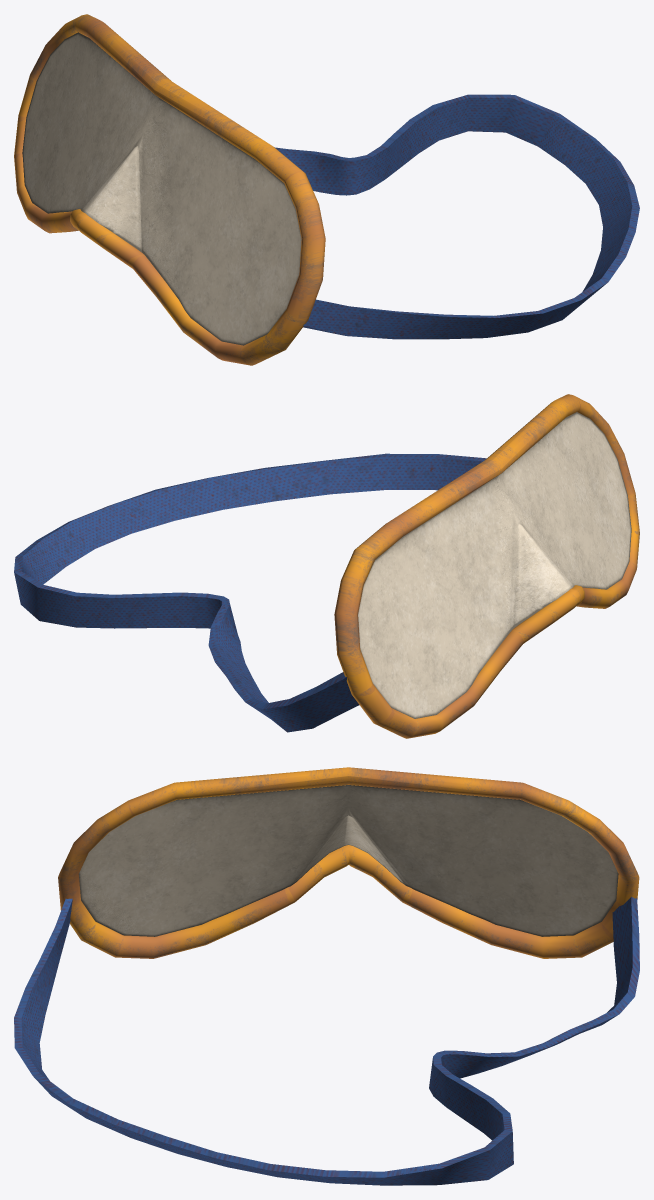
The model's file is safety_goggles_converted.fbx.
The picture shows the model from 3 angles, top to bottom: view 1: azimuth 30°, elevation 25°; view 2: azimuth 150°, elevation 25°; view 3: azimuth 270°, elevation 25°; orthographic projection. The views are drawn at different scales.
Parts seen in each view (by area): view 1: Cylinder001_Material #26_0; view 2: Cylinder001_Material #26_0; view 3: Cylinder001_Material #26_0.
Part boxes in pixels (x1,y1,x2,y2): Cylinder001_Material #26_0: [14, 14, 639, 365]; Cylinder001_Material #26_0: [14, 394, 639, 738]; Cylinder001_Material #26_0: [14, 767, 639, 1185].
Size of the model in its own units: 1 by 0.3597 by 0.985.
1 material, 1 textured.
